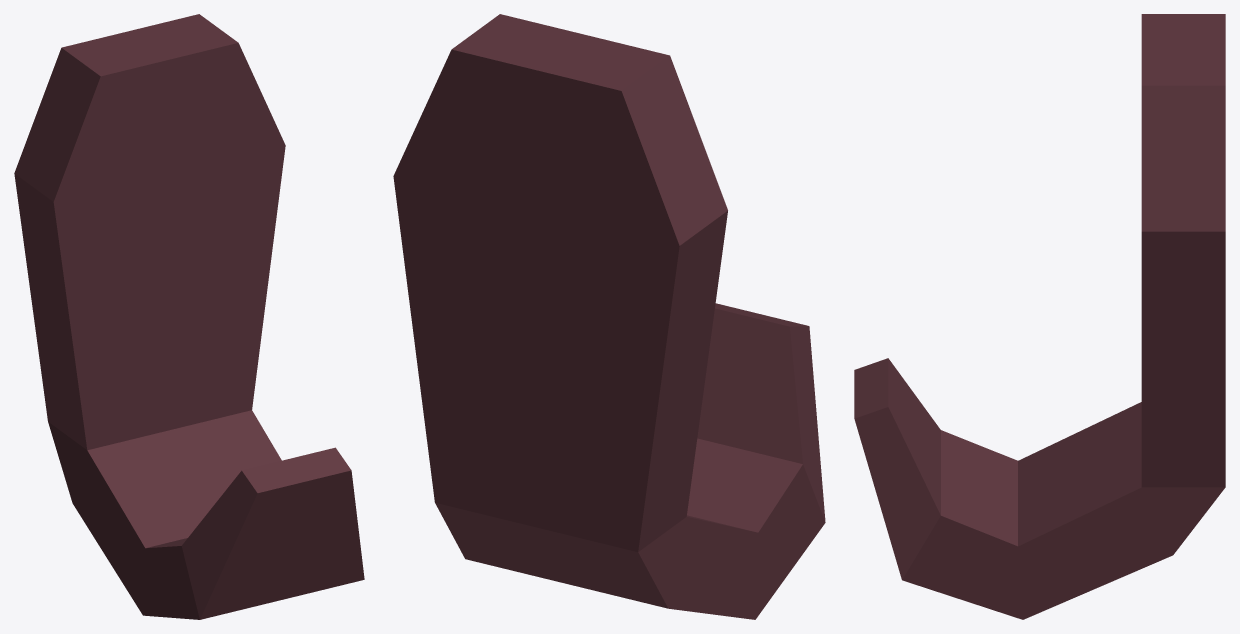
The model's file is furniture-hook-bathroom-small.glb.
3 views of the same model, side by side, from view 1: azimuth 30°, elevation 25°; view 2: azimuth 150°, elevation 25°; view 3: azimuth 270°, elevation 25° (orthographic). The views are drawn at different scales.
Parts seen in each view (by area): view 1: hook-bathroom-small; view 2: hook-bathroom-small; view 3: hook-bathroom-small.
Boxes of the visible parts, x1,y1,x2,y2 form: hook-bathroom-small: (14,14,364,619); hook-bathroom-small: (393,14,825,619); hook-bathroom-small: (854,14,1225,619).
Bounding box in the file's own units: 0.0307 × 0.0625 × 0.0399.
